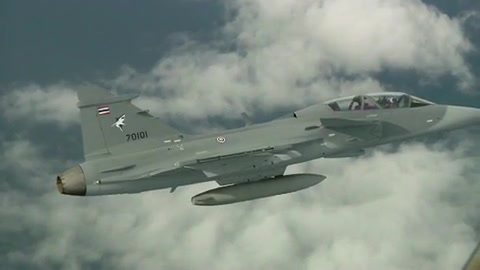aeroplane: (55, 83, 480, 208)
